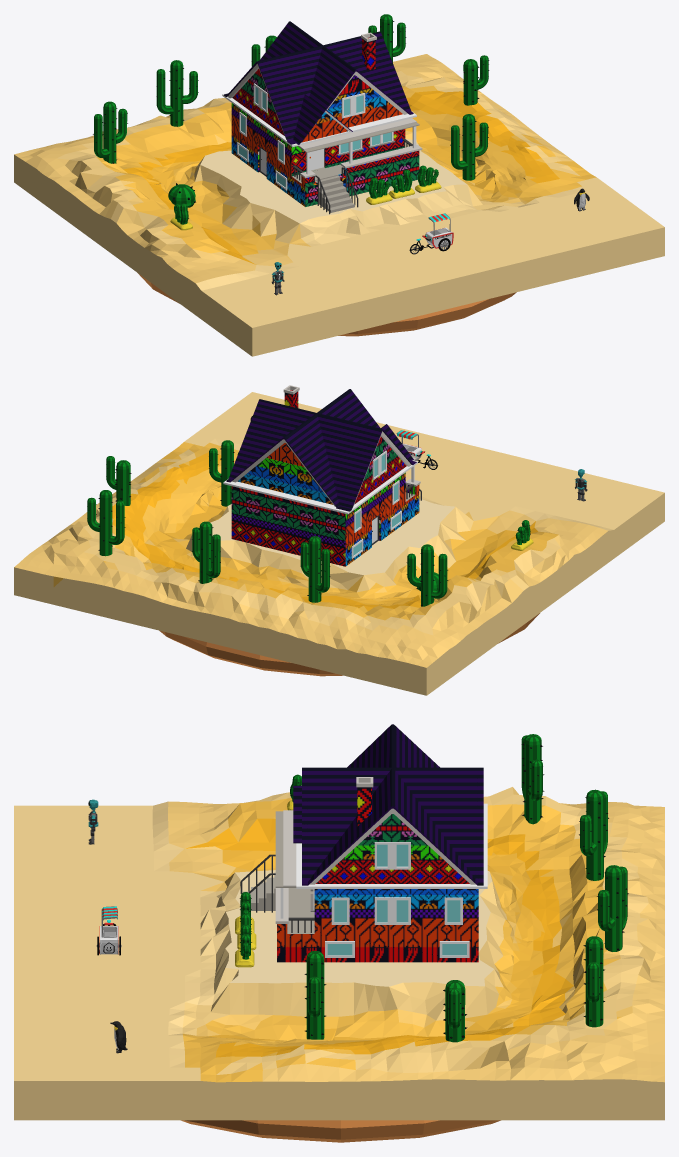
3 views of the same model, one above another, from view 1: azimuth 30°, elevation 25°; view 2: azimuth 150°, elevation 25°; view 3: azimuth 270°, elevation 25° (orthographic). The views are drawn at different scales.
Visible parts, largest first — view 1: Cube.001, Cube.966, UNDERGROUND_PIZZA, Cylinder.044, Cylinder.037, Cylinder.045, Cylinder.038, VEHICLES_SNOWBAL_BIKE, Cylinder.042, Cylinder.039, Cylinder.041, Sphere.023; view 2: Cube.001, Cube.966, UNDERGROUND_PIZZA, Cylinder.042, Cylinder.045, Cylinder.044, Cylinder.043, Cylinder.037, Cylinder.038, VEHICLES_SNOWBAL_BIKE; view 3: Cube.001, Cube.966, UNDERGROUND_PIZZA, Cylinder.043, Cylinder.044, Cylinder.045, Cylinder.042, Cylinder.037, Cylinder.038, VEHICLES_SNOWBAL_BIKE, Cylinder.041.
Part boxes in pixels (x1=…): Cube.001: x1=14, y1=54, x2=664, y2=356; Cube.966: x1=222, y1=21, x2=422, y2=214; UNDERGROUND_PIZZA: x1=138, y1=273, x2=516, y2=336; Cylinder.044: x1=156, y1=60, x2=198, y2=126; Cylinder.037: x1=450, y1=114, x2=488, y2=180; Cylinder.045: x1=93, y1=101, x2=127, y2=163; Cylinder.038: x1=463, y1=55, x2=489, y2=105; VEHICLES_SNOWBAL_BIKE: x1=409, y1=213, x2=453, y2=254; Cylinder.042: x1=368, y1=14, x2=406, y2=62; Cylinder.039: x1=366, y1=177, x2=392, y2=204; Cylinder.041: x1=415, y1=165, x2=441, y2=192; Sphere.023: x1=168, y1=183, x2=195, y2=207; Cube.001: x1=14, y1=392, x2=664, y2=695; Cube.966: x1=223, y1=385, x2=421, y2=566; UNDERGROUND_PIZZA: x1=159, y1=613, x2=539, y2=676; Cylinder.042: x1=87, y1=490, x2=125, y2=556; Cylinder.045: x1=406, y1=544, x2=448, y2=606; Cylinder.044: x1=300, y1=536, x2=330, y2=602; Cylinder.043: x1=192, y1=521, x2=220, y2=583; Cylinder.037: x1=209, y1=440, x2=238, y2=506; Cylinder.038: x1=106, y1=456, x2=131, y2=505; VEHICLES_SNOWBAL_BIKE: x1=396, y1=430, x2=437, y2=469; Cube.001: x1=14, y1=787, x2=664, y2=1120; Cube.966: x1=240, y1=724, x2=487, y2=962; UNDERGROUND_PIZZA: x1=181, y1=1120, x2=500, y2=1142; Cylinder.043: x1=597, y1=865, x2=628, y2=951; Cylinder.044: x1=579, y1=789, x2=608, y2=880; Cylinder.045: x1=521, y1=734, x2=544, y2=824; Cylinder.042: x1=583, y1=936, x2=604, y2=1027; Cylinder.037: x1=304, y1=951, x2=326, y2=1039; Cylinder.038: x1=443, y1=980, x2=467, y2=1042; VEHICLES_SNOWBAL_BIKE: x1=96, y1=906, x2=121, y2=955; Cylinder.041: x1=235, y1=924, x2=254, y2=967.
Bounding box in the file's own units: 4002 × 1839 × 4001.
41 materials, 6 textured.
